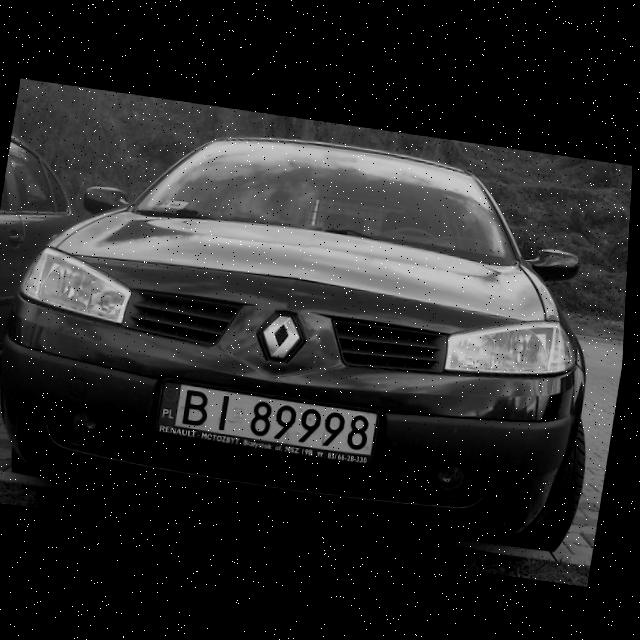license-plates: (155, 380, 376, 465)
